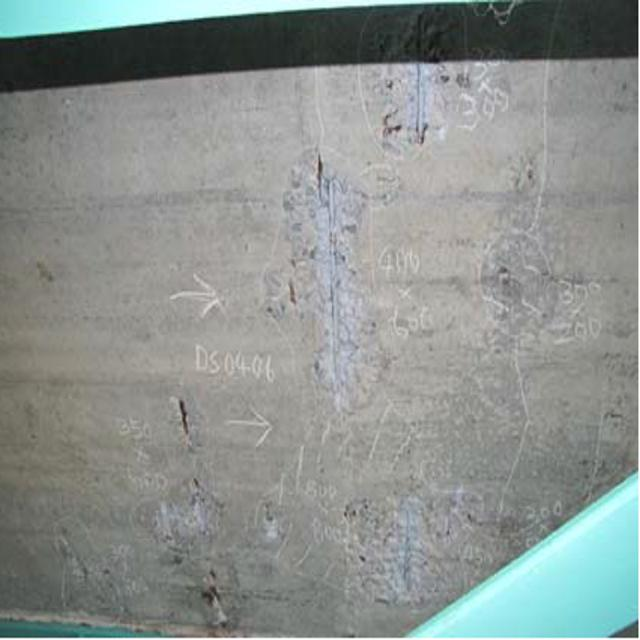spalling: (271, 151, 366, 400), (134, 403, 232, 636), (322, 479, 484, 600), (364, 48, 512, 146)
